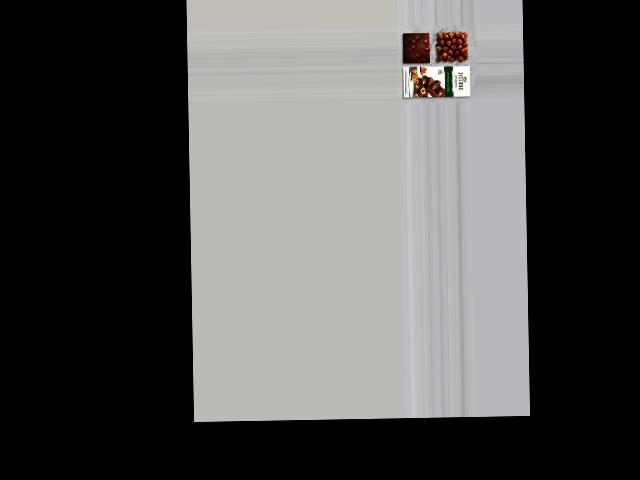chocolate: (401, 29, 430, 64)
